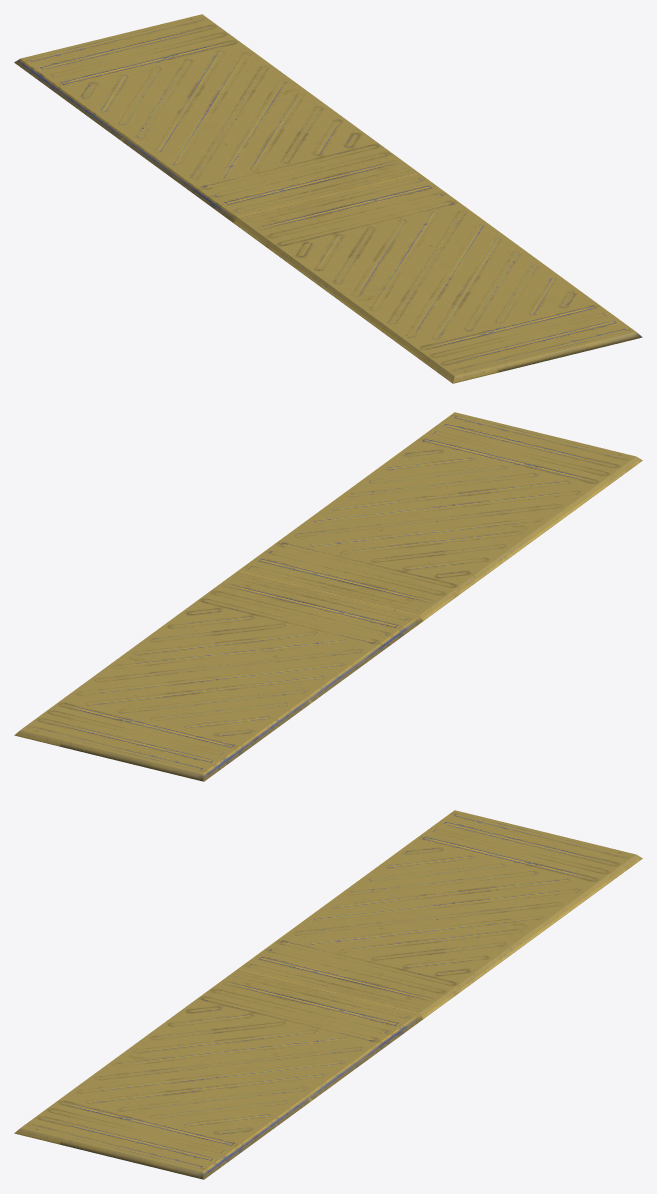
Rendered from CP_Tactile_Tiles_2x0.5.fbx.
The picture shows the model from 3 angles, top to bottom: view 1: azimuth 30°, elevation 25°; view 2: azimuth 150°, elevation 25°; view 3: azimuth 330°, elevation 25°; orthographic projection.
Visible parts, largest first — view 1: CP_Tactile_Tiles_2x0.5m; view 2: CP_Tactile_Tiles_2x0.5m; view 3: CP_Tactile_Tiles_2x0.5m.
Boxes of the visible parts, bbox=[...] form: CP_Tactile_Tiles_2x0.5m: bbox=[14, 14, 642, 383]; CP_Tactile_Tiles_2x0.5m: bbox=[14, 412, 642, 781]; CP_Tactile_Tiles_2x0.5m: bbox=[14, 810, 642, 1179].
Bounding box in the file's own units: 50 × 1.19 × 200.
